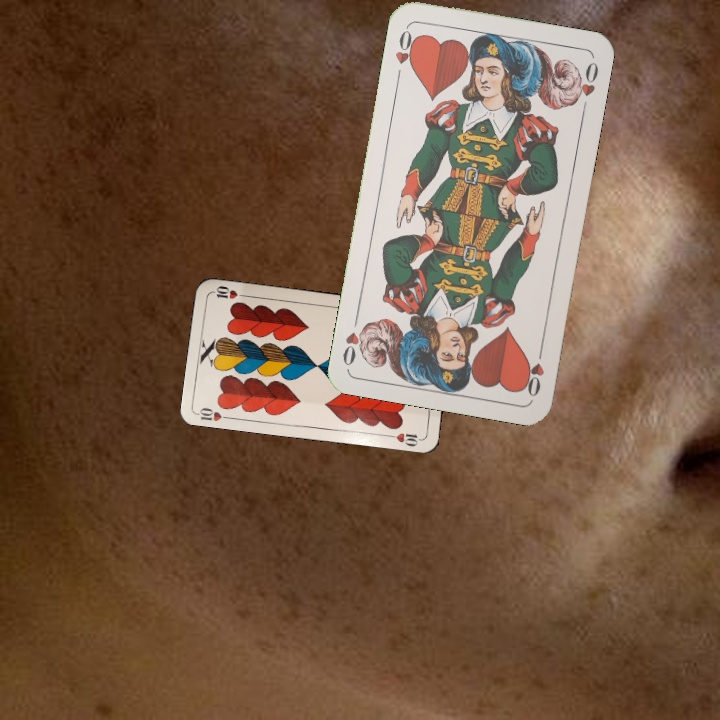H10: (194, 403, 235, 423)
HO: (391, 23, 420, 82), (519, 341, 547, 399)
